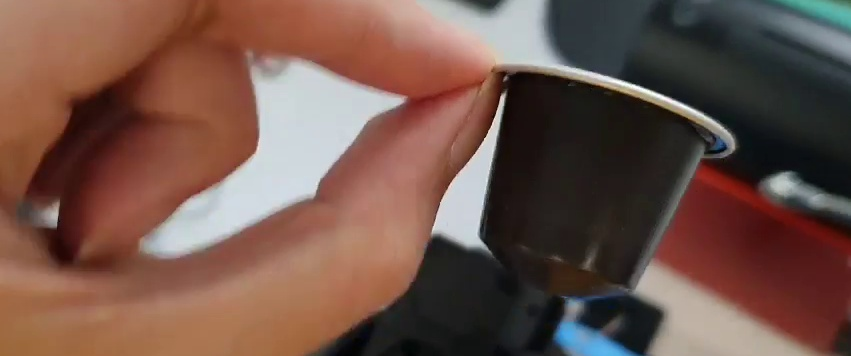capsule_4: (474, 57, 737, 300)
